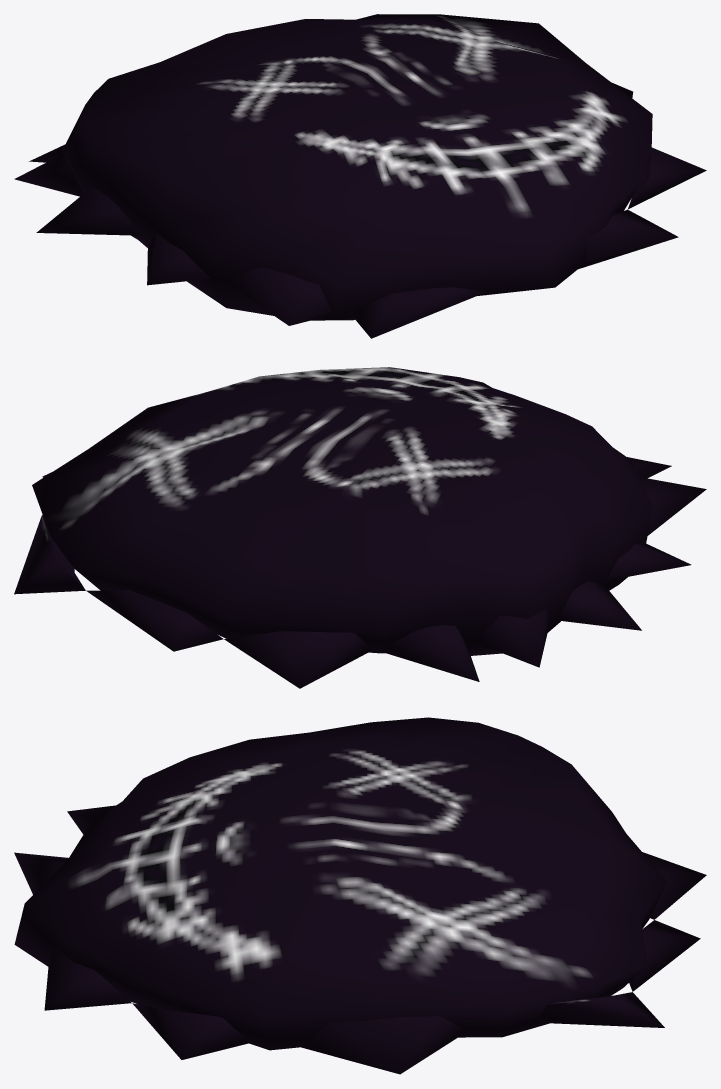
The model's file is ConfusedFace.fbx.
3 renders of one model, top to bottom at view 1: azimuth 30°, elevation 25°; view 2: azimuth 150°, elevation 25°; view 3: azimuth 270°, elevation 25°, orthographic. The views are drawn at different scales.
Parts seen in each view (by area): view 1: Confused; view 2: Confused; view 3: Confused.
Part boxes in pixels (x1,y1,x2,y2): Confused: [14, 14, 706, 338]; Confused: [14, 367, 706, 688]; Confused: [14, 717, 706, 1074].
Size of the model in its own units: 1052 by 249 by 974.
1 material, 1 textured.
